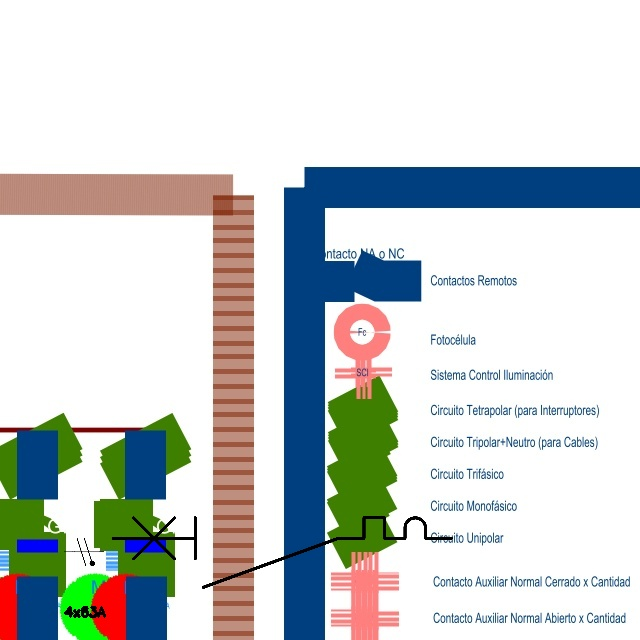interruptor_termomagnetico: (104, 509, 460, 596)
